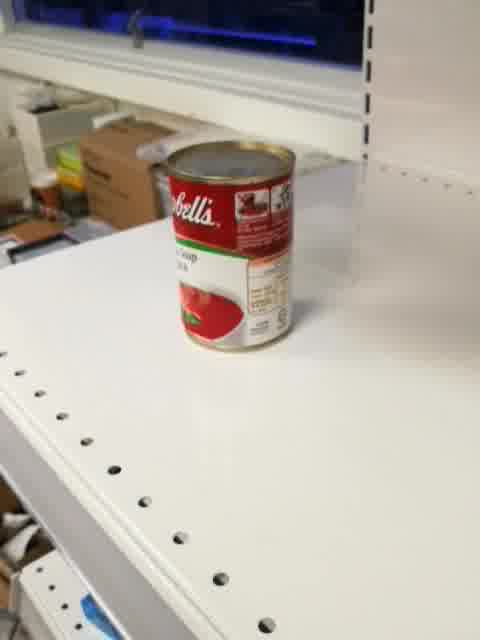tomatosoup: (165, 138, 298, 354)
